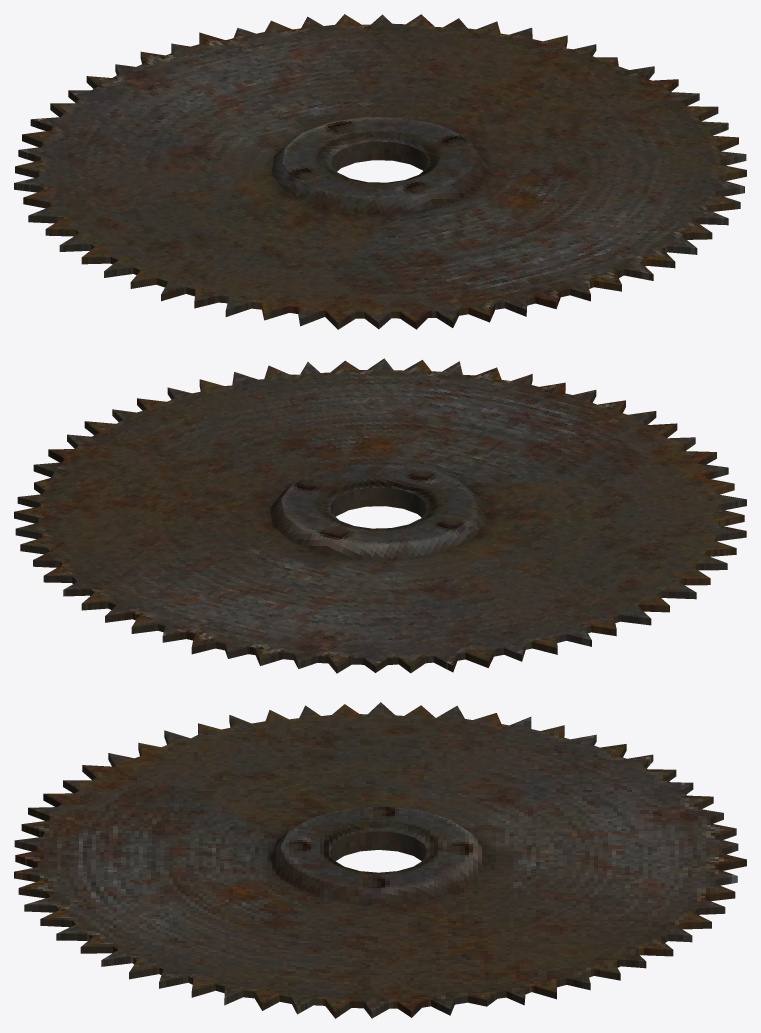
Rendered from saw_blade_1.glb.
3 views of the same model, one above another, from view 1: azimuth 30°, elevation 25°; view 2: azimuth 150°, elevation 25°; view 3: azimuth 270°, elevation 25° (orthographic).
Visible parts, largest first — view 1: saw_blade_1; view 2: saw_blade_1; view 3: saw_blade_1.
Boxes of the visible parts, x1,y1,x2,y2 form: saw_blade_1: (14,14,746,329); saw_blade_1: (14,358,746,673); saw_blade_1: (14,702,746,1018).
Size of the model in its own units: 0.5934 by 0.024 by 0.5927.
Materials: 1 (1 with a texture image).
